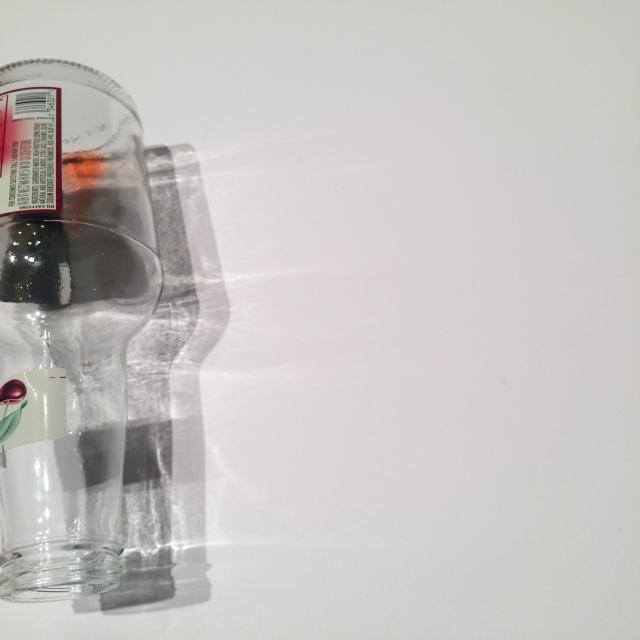Glass: (0, 44, 166, 614)
